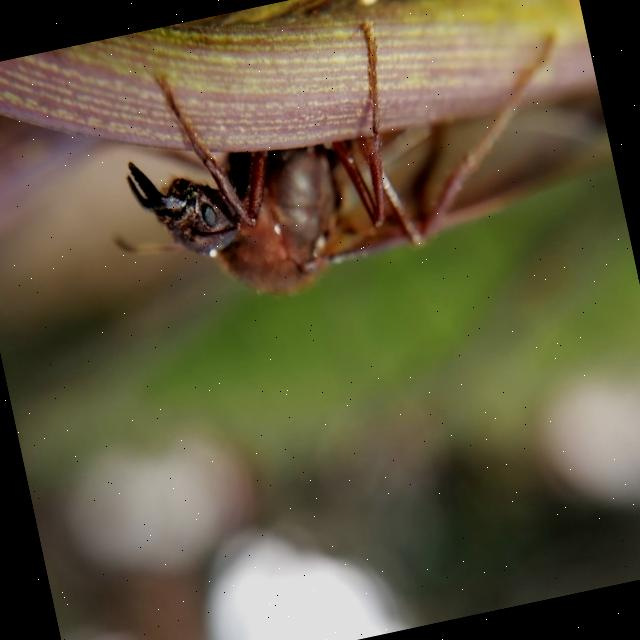Alive-Female-Alate: (72, 0, 627, 329)
